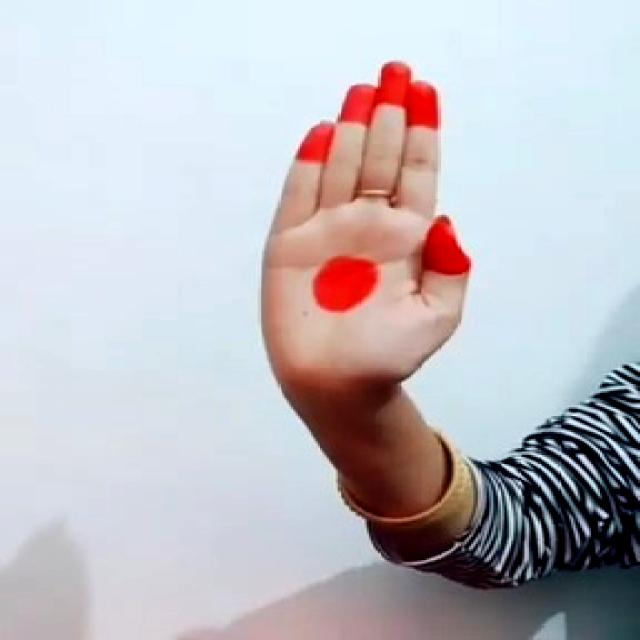Pataka: (260, 51, 492, 420)
bangle: (319, 431, 497, 530)
